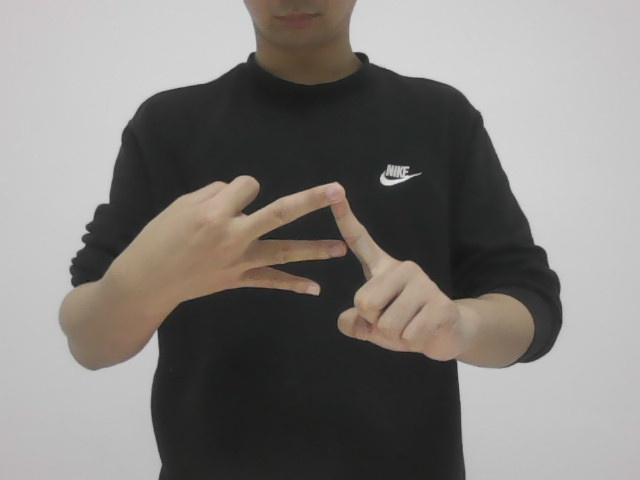name: (137, 180, 458, 366)
